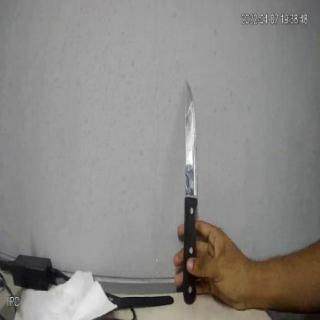knife: (177, 73, 203, 306)
